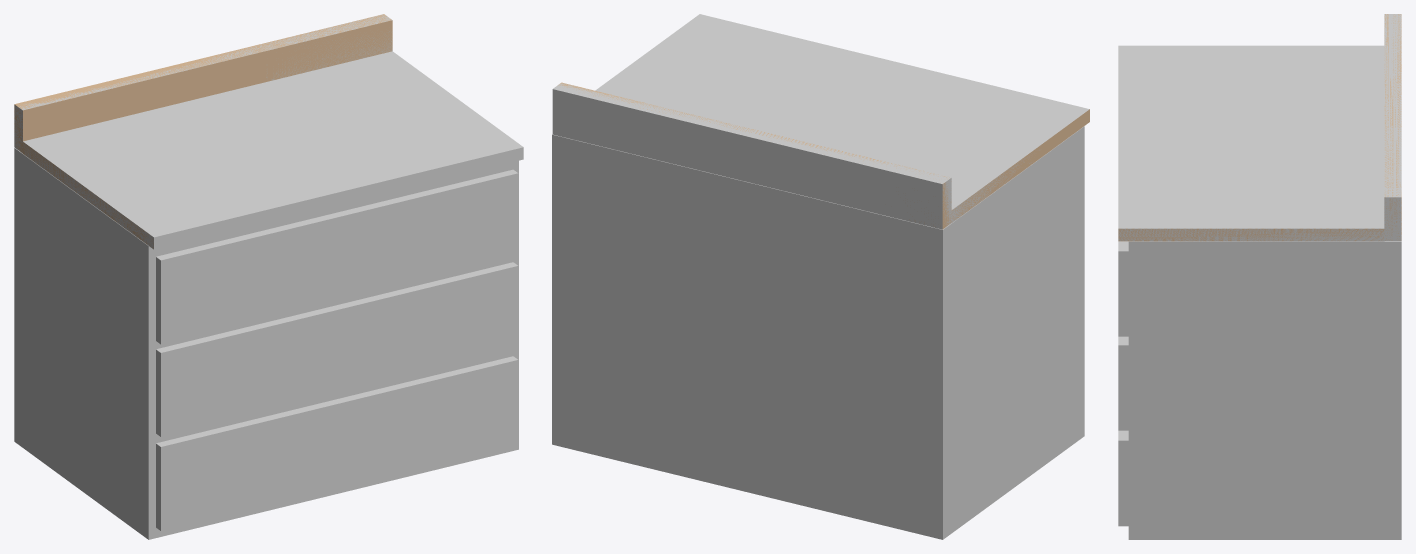
File: counter.fbx
The picture shows the model from 3 angles, left to right: view 1: azimuth 30°, elevation 25°; view 2: azimuth 150°, elevation 25°; view 3: azimuth 270°, elevation 25°; orthographic projection. The views are drawn at different scales.
Parts seen in each view (by area): view 1: Cube.008; view 2: Cube.008; view 3: Cube.008.
Part boxes in pixels (left/top/right/bottom): Cube.008: left=14, top=14, right=523, bottom=539; Cube.008: left=552, top=14, right=1089, bottom=539; Cube.008: left=1118, top=14, right=1401, bottom=539.
Bounding box in the file's own units: 400 × 348 × 261.
